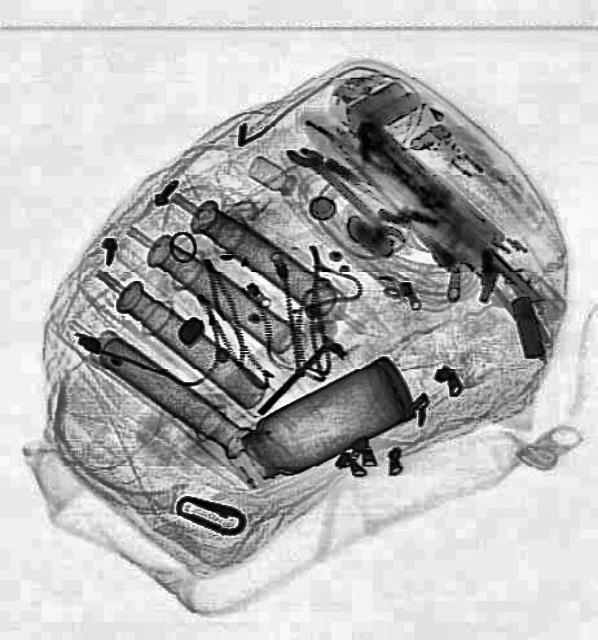Wrench: (282, 134, 408, 253)
